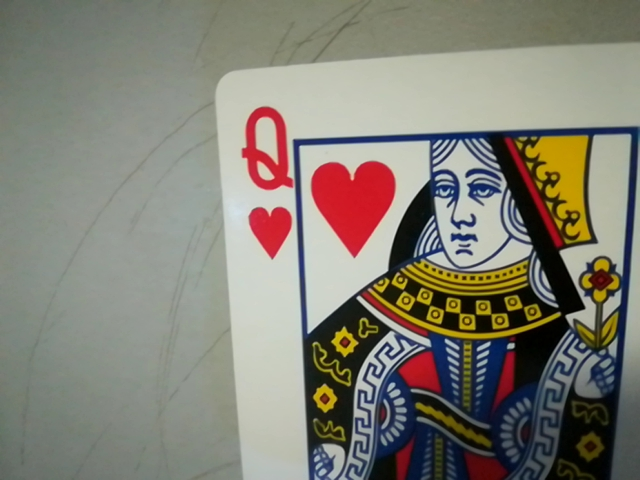hx q: (234, 92, 301, 265)
